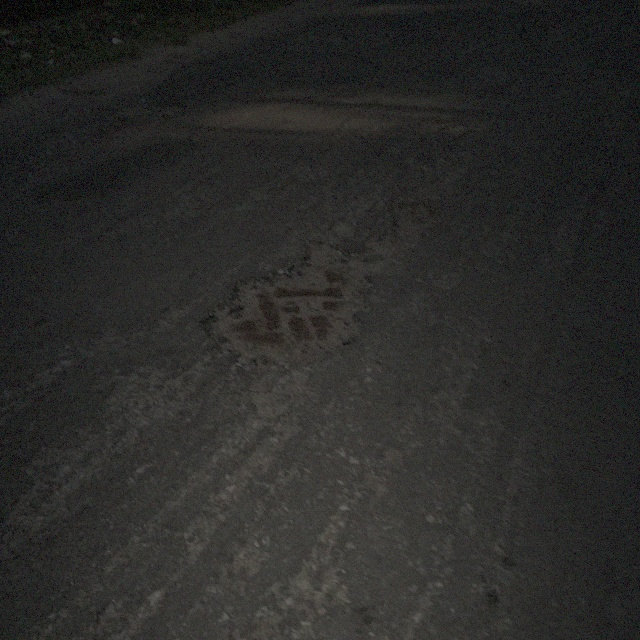pothole: (190, 238, 379, 374), (90, 98, 186, 140), (391, 198, 440, 243)
